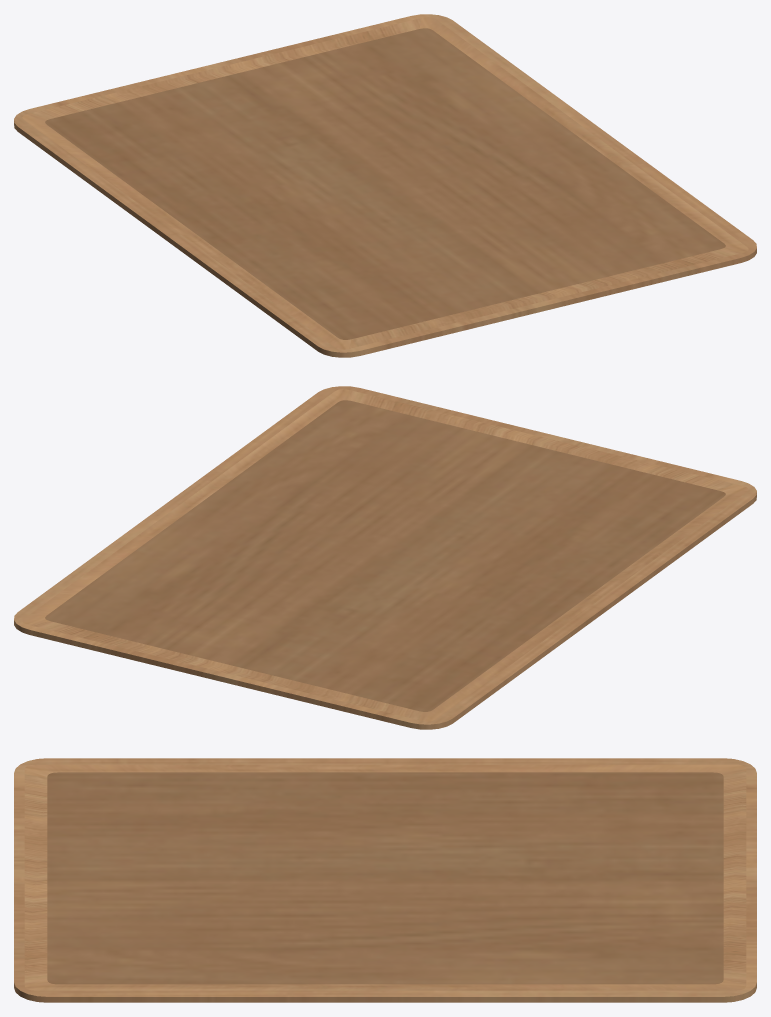
The model's file is Board_1.fbx.
The picture shows the model from 3 angles, top to bottom: view 1: azimuth 30°, elevation 25°; view 2: azimuth 150°, elevation 25°; view 3: azimuth 270°, elevation 25°; orthographic projection. The views are drawn at different scales.
Parts seen in each view (by area): view 1: Cube.007; view 2: Cube.007; view 3: Cube.007.
Boxes of the visible parts, x1,y1,x2,y2 form: Cube.007: [14, 14, 756, 357]; Cube.007: [14, 386, 756, 729]; Cube.007: [14, 758, 756, 1002].
Bounding box in the file's own units: 2.3 × 3.03 × 0.0261.
